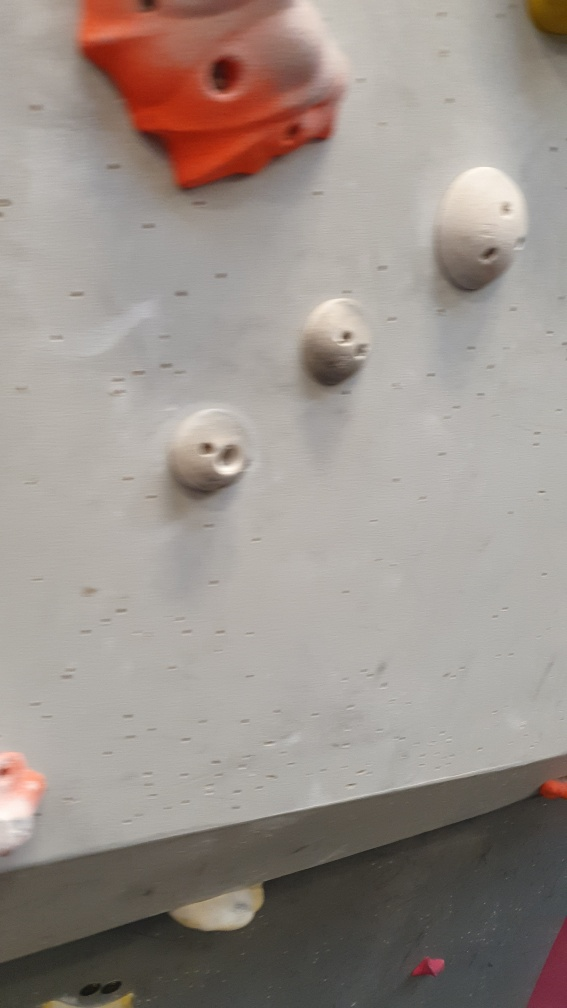Hand Start: (77, 978, 101, 1003), (98, 977, 126, 998)
Jug: (69, 1, 358, 207)
Sloper: (429, 160, 533, 294), (169, 402, 256, 496), (300, 292, 378, 392)
